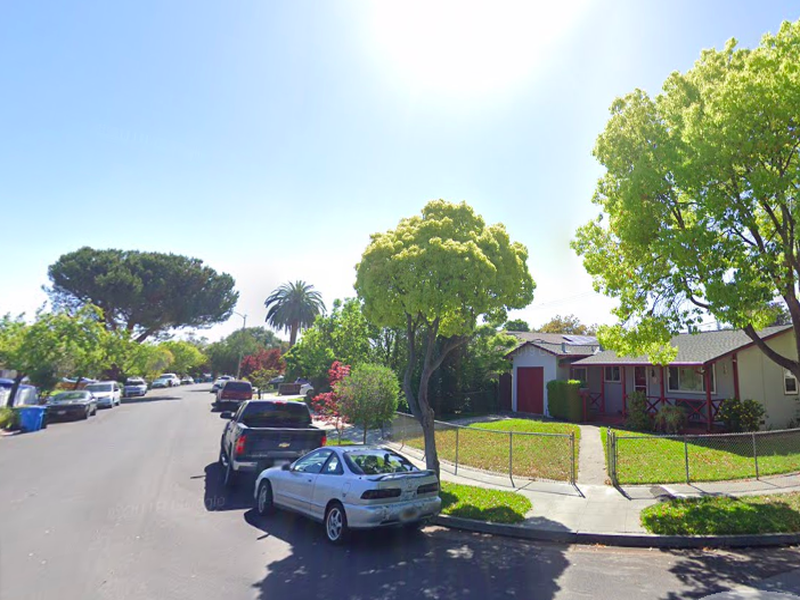tree: (568, 16, 800, 390), (353, 197, 537, 492)
